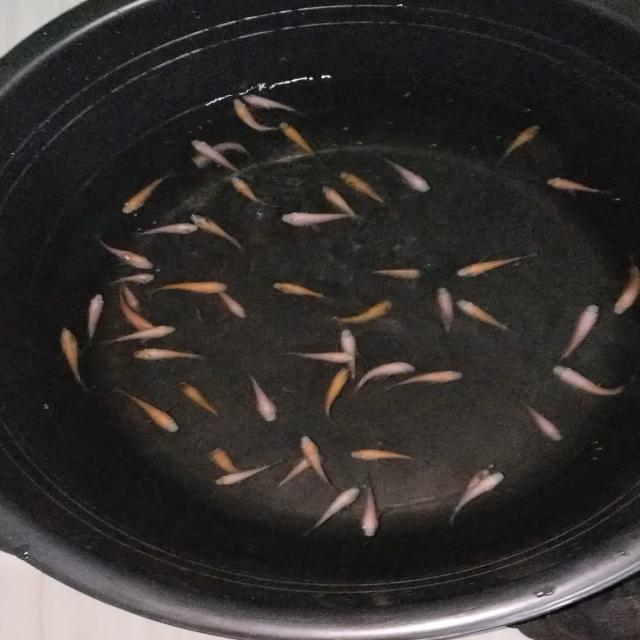nila: (442, 470, 506, 526), (302, 484, 363, 534), (550, 363, 636, 398), (118, 169, 176, 220), (183, 133, 252, 174), (118, 389, 180, 434), (554, 302, 601, 361), (298, 432, 344, 492), (210, 456, 286, 488), (455, 296, 517, 334), (518, 402, 568, 449), (493, 120, 543, 167), (190, 212, 246, 252), (278, 120, 326, 164), (190, 140, 252, 174), (386, 154, 436, 196), (454, 252, 534, 278), (361, 469, 388, 544), (272, 451, 322, 491), (383, 368, 466, 392), (239, 88, 310, 116), (226, 94, 275, 134), (101, 236, 155, 272), (356, 362, 416, 394), (205, 446, 255, 484), (119, 293, 161, 338), (336, 168, 388, 204), (324, 298, 396, 324), (56, 325, 86, 387), (176, 380, 222, 419), (108, 320, 181, 344), (610, 259, 640, 316), (321, 184, 362, 224), (248, 372, 280, 423), (431, 284, 459, 340), (323, 368, 352, 422), (280, 347, 356, 367), (81, 292, 108, 348), (136, 220, 202, 242), (210, 284, 250, 320), (456, 464, 494, 499), (544, 176, 610, 196), (272, 280, 332, 302), (156, 278, 229, 296), (230, 174, 268, 208), (130, 346, 208, 362), (350, 445, 418, 463), (337, 325, 365, 368), (280, 210, 356, 224), (368, 266, 426, 284), (106, 270, 162, 288), (119, 280, 148, 314)
